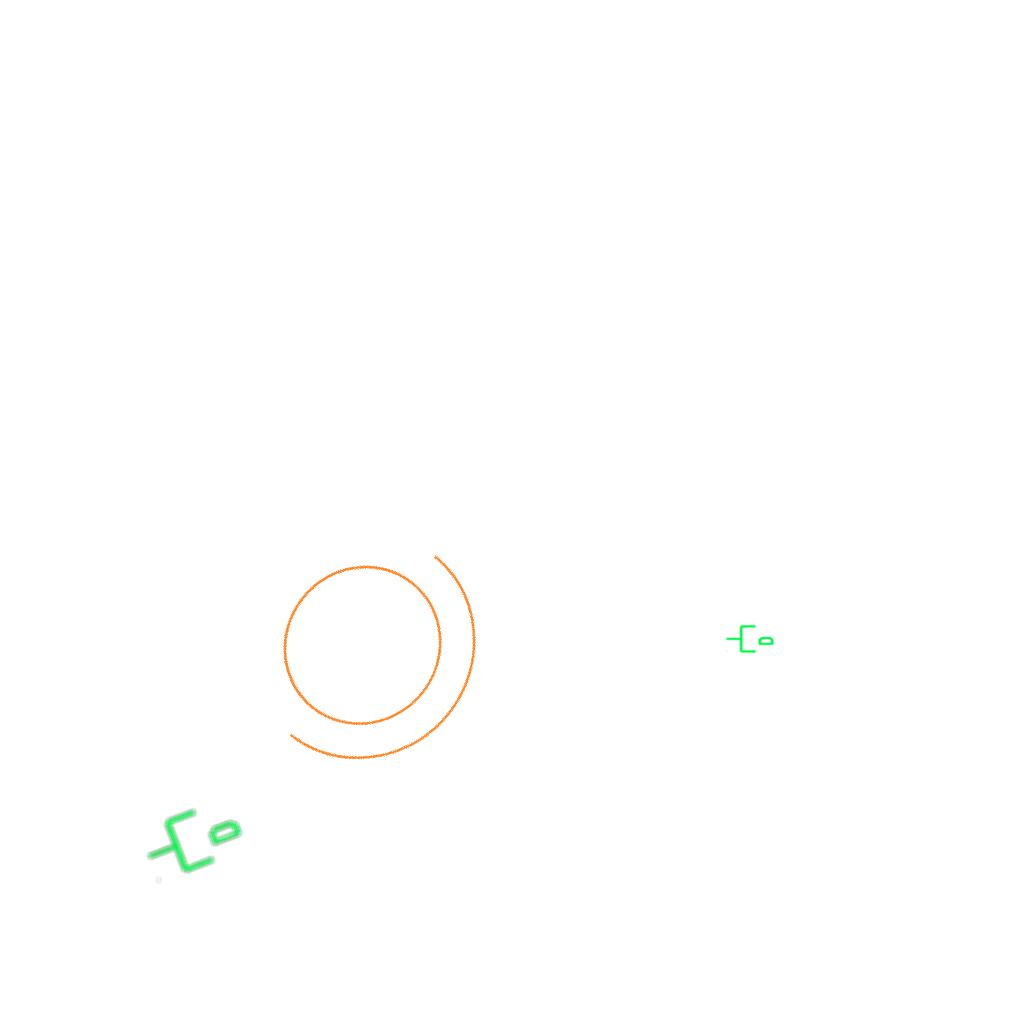Datenanschluss_einfach: (133, 787, 252, 889), (725, 621, 775, 655)
Scheinwerfer_fuer_Alarmbeleuchtung: (203, 473, 545, 820)
